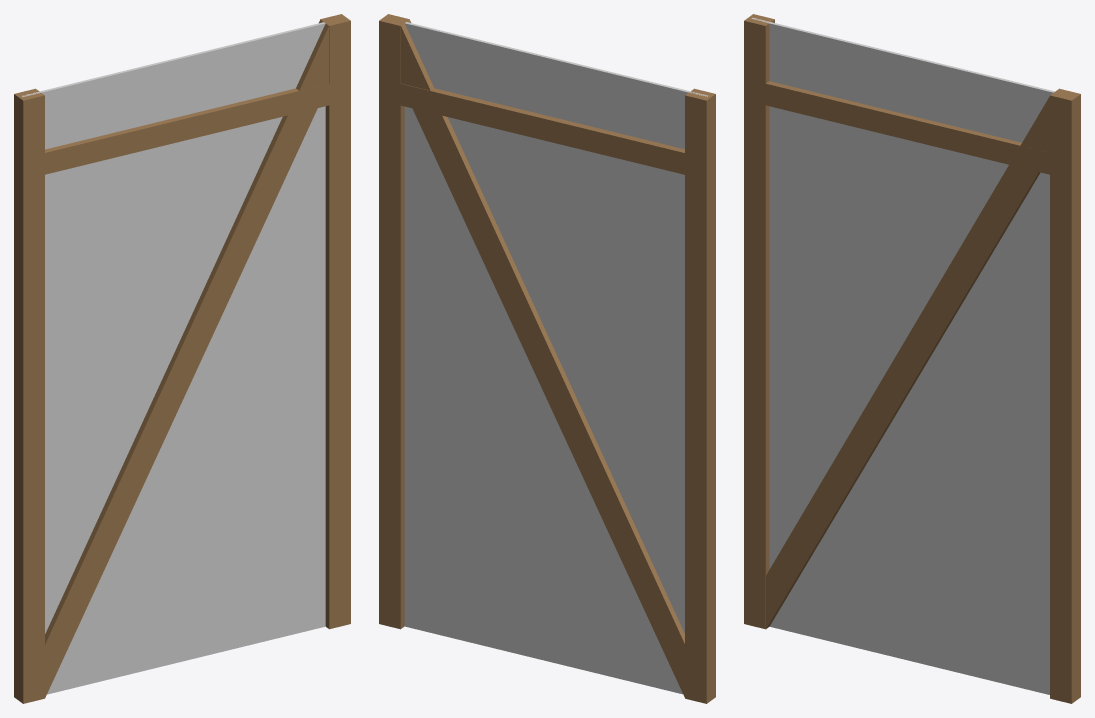
Rendered from mod_paredEsquina.fbx.
3 views of the same model, side by side, from view 1: azimuth 30°, elevation 25°; view 2: azimuth 150°, elevation 25°; view 3: azimuth 330°, elevation 25° (orthographic).
Parts seen in each view (by area): view 1: ParedBordes; view 2: ParedBordes; view 3: ParedBordes.
Part boxes in pixels (bbox=[...]): ParedBordes: bbox=[14, 14, 350, 703]; ParedBordes: bbox=[379, 14, 715, 703]; ParedBordes: bbox=[744, 14, 1080, 703].
Size of the model in its own units: 135 by 238 by 6.6.
